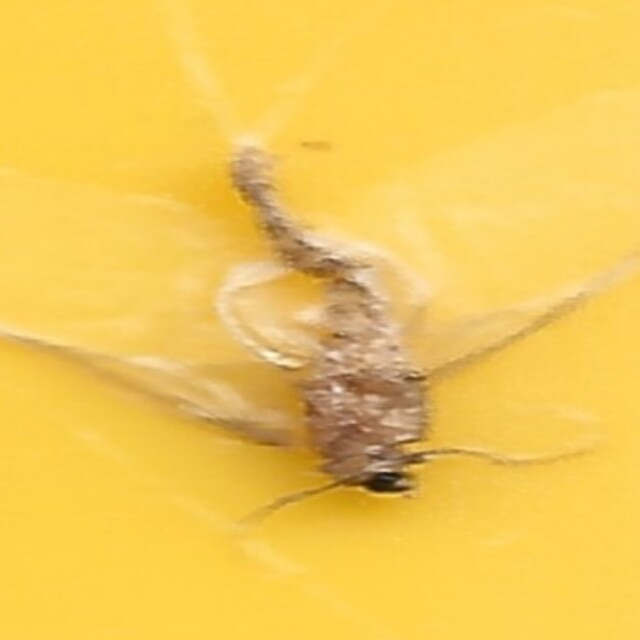Ephemeroptera: (211, 141, 429, 499)
